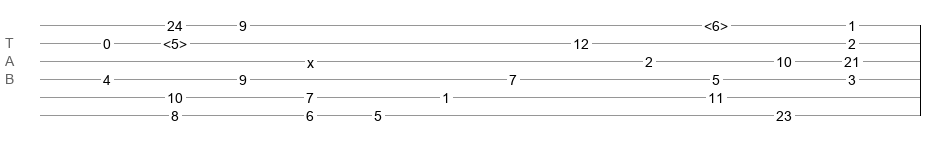0: (103, 36, 111, 46)
1: (442, 90, 450, 100), (848, 18, 856, 28)
10: (167, 90, 183, 100), (776, 54, 792, 64)
11: (708, 90, 724, 100)
12: (573, 36, 589, 46)
2: (645, 54, 653, 64), (848, 36, 856, 46)
21: (844, 54, 860, 64)
23: (776, 108, 792, 118)
24: (167, 18, 183, 28)
3: (848, 72, 856, 82)
4: (103, 72, 111, 82)
5: (374, 108, 382, 118), (712, 72, 720, 82)
6: (306, 108, 314, 118)
7: (306, 90, 314, 100), (509, 72, 517, 82)
8: (171, 108, 179, 118)
9: (239, 18, 247, 28), (239, 72, 247, 82)
harmonic: (163, 36, 187, 46), (704, 18, 728, 28)
x: (307, 55, 314, 63)
